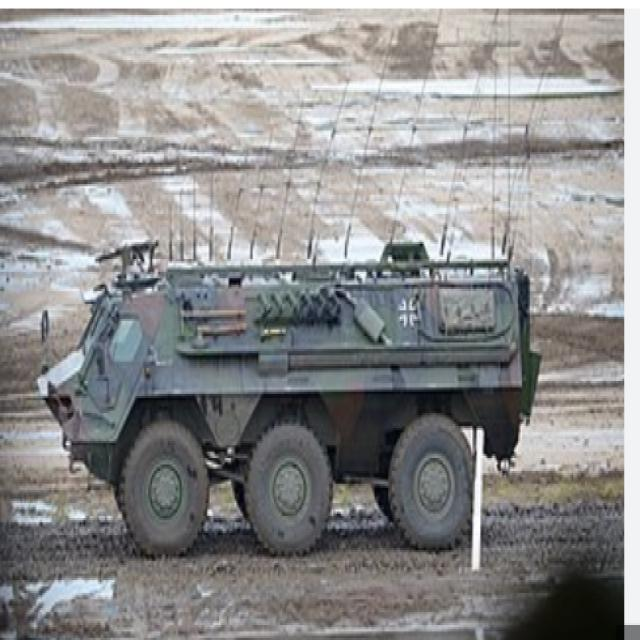MIL_APC: (40, 240, 558, 539)
